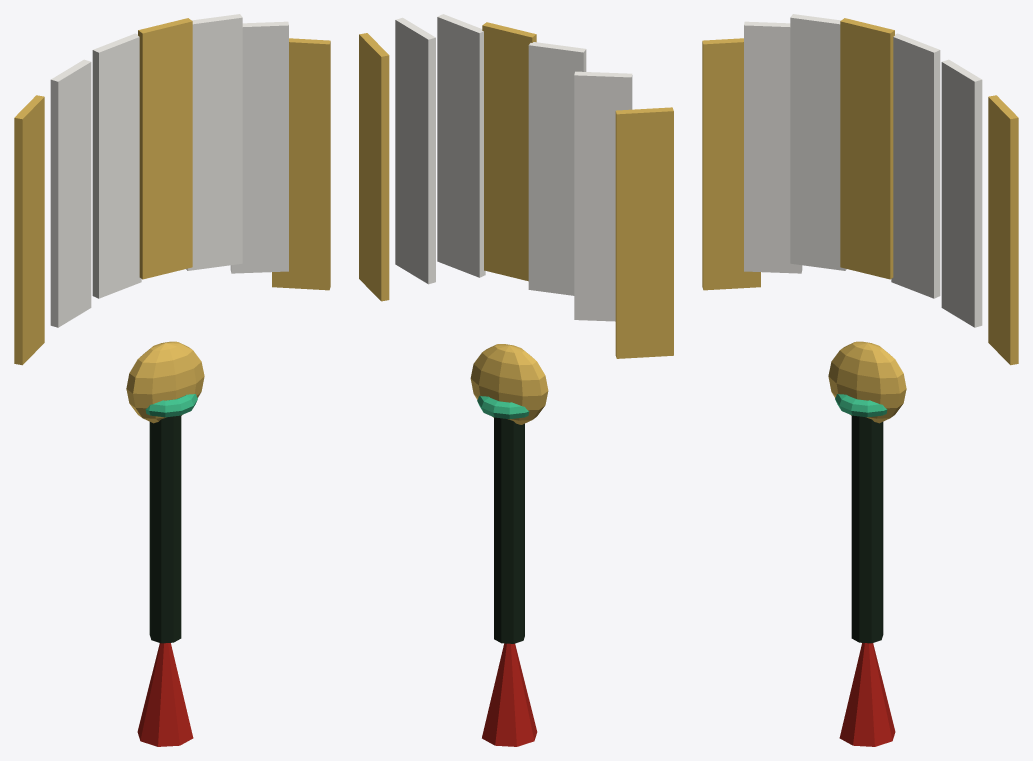
The model's file is weapon_fan.glb.
3 views of the same model, side by side, from view 1: azimuth 30°, elevation 25°; view 2: azimuth 150°, elevation 25°; view 3: azimuth 330°, elevation 25° (orthographic).
Visible parts, largest first — view 1: 큐브.003, 큐브.004, 큐브.002, 큐브.005, 큐브.006, 큐브.001, 큐브, 실린더, 구체, 원뿔, Torus; view 2: 큐브, 큐브.002, 큐브.004, 큐브.003, 큐브.001, 큐브.005, 큐브.006, 실린더, 구체, 원뿔, Torus; view 3: 큐브.003, 큐브.002, 큐브.004, 큐브.001, 큐브, 큐브.005, 큐브.006, 실린더, 구체, 원뿔, Torus.
Boxes of the visible parts, x1,y1,x2,y2 form: 큐브.003: (138,18,192,279); 큐브.004: (186,14,242,270); 큐브.002: (92,33,141,298); 큐브.005: (230,21,288,273); 큐브.006: (272,38,330,290); 큐브.001: (50,59,91,327); 큐브: (14,95,44,365); 실린더: (149,415,181,643); 구체: (126,341,204,423); 원뿔: (137,643,193,746); Torus: (145,394,197,417); 큐브: (615,107,673,358); 큐브.002: (528,42,586,295); 큐브.004: (437,14,485,277); 큐브.003: (482,22,536,281); 큐브.001: (574,71,632,321); 큐브.005: (395,17,435,284); 큐브.006: (359,33,389,301); 실린더: (494,417,524,643); 구체: (470,344,548,424); 원뿔: (482,643,537,746); Torus: (477,396,529,419); 큐브.003: (840,18,894,279); 큐브.002: (790,14,846,270); 큐브.004: (891,33,940,298); 큐브.001: (744,21,802,273); 큐브: (702,38,760,290); 큐브.005: (941,59,982,327); 큐브.006: (988,95,1018,365); 실린더: (851,415,883,643); 구체: (828,341,906,423); 원뿔: (839,643,895,746); Torus: (835,394,887,417).
Bounding box in the file's own units: 1.01 × 2.16 × 0.18.
